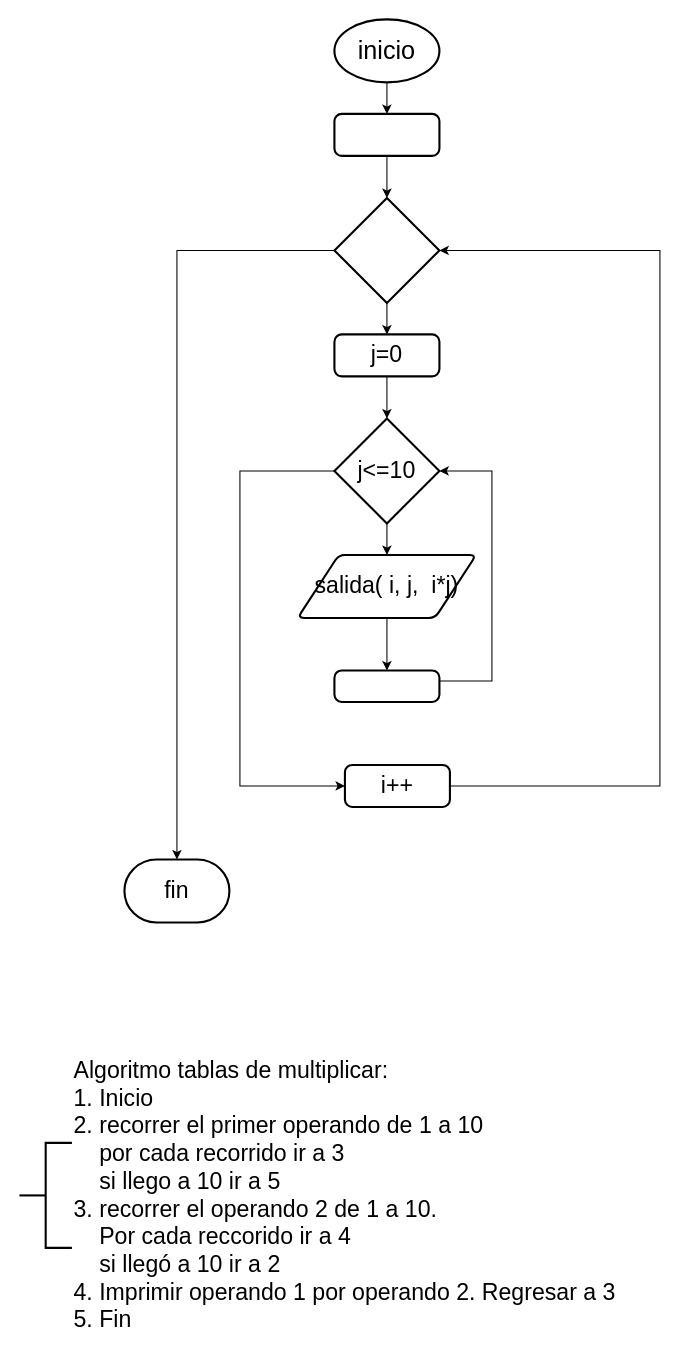
Image size: 687x1351. Some labels were removed from this diagram. Each missing label, with the centre of its shape:
"i<=10" goes at point 386,249.
"i=1" goes at point 386,134.
"j++" goes at point 386,685.
